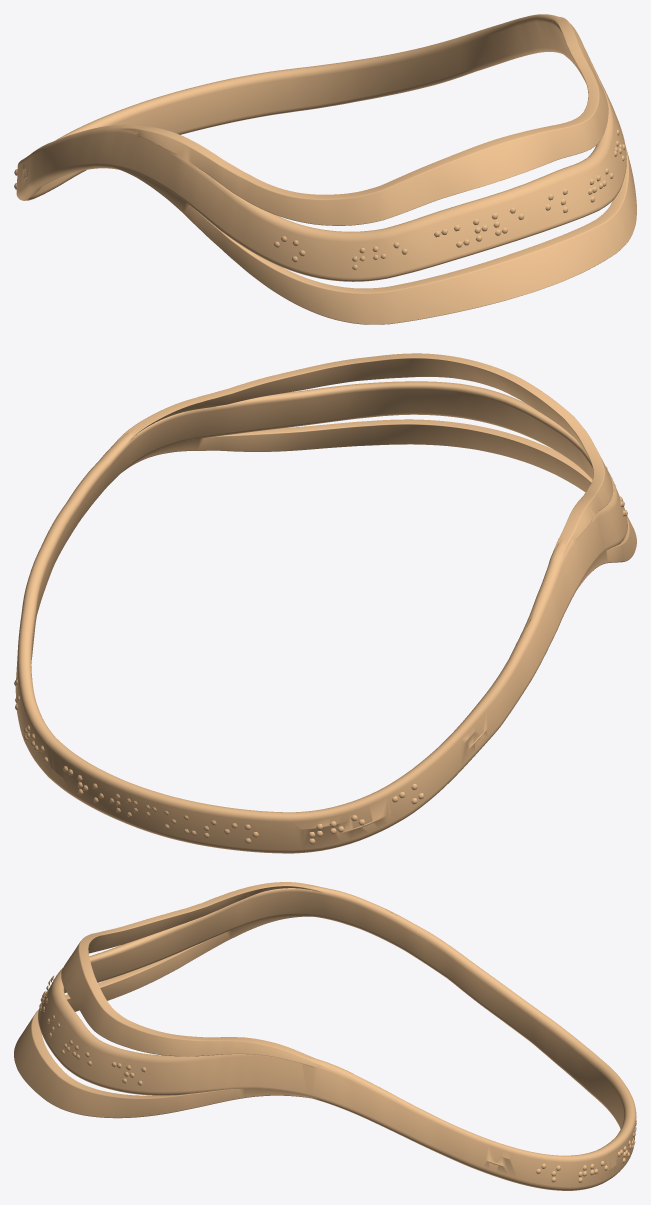
File: circlet-c.glb
3 views of the same model, one above another, from view 1: azimuth 30°, elevation 25°; view 2: azimuth 150°, elevation 25°; view 3: azimuth 270°, elevation 25° (orthographic). The views are drawn at different scales.
Visible parts, largest first — view 1: crown-body, braille-dots; view 2: crown-body, braille-dots; view 3: crown-body, braille-dots.
Part boxes in pixels (bbox=[...]): crown-body: bbox=[16, 14, 636, 324]; braille-dots: bbox=[14, 129, 625, 269]; crown-body: bbox=[15, 353, 636, 853]; braille-dots: bbox=[14, 466, 627, 844]; crown-body: bbox=[14, 882, 636, 1190]; braille-dots: bbox=[39, 976, 636, 1182].
Bounding box in the file's own units: 0.172 × 0.0791 × 0.2285.
